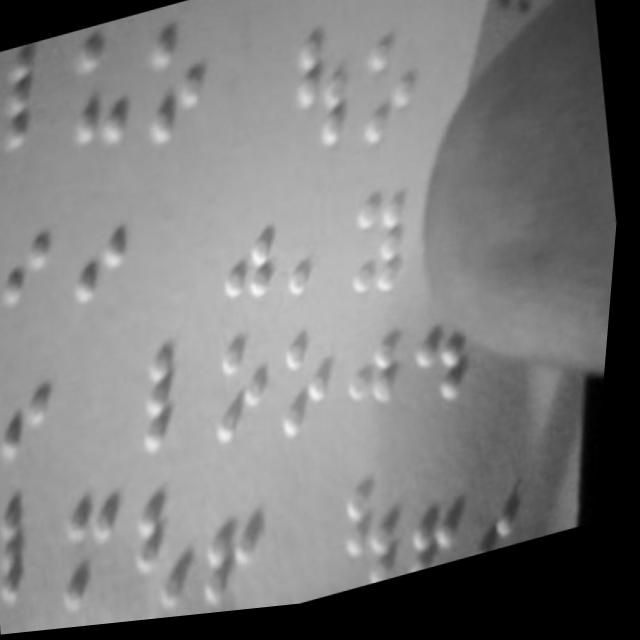braiile: (132, 15, 233, 157), (57, 16, 154, 163), (192, 476, 288, 621), (202, 182, 299, 321), (279, 22, 368, 171), (343, 30, 438, 168), (338, 185, 433, 323), (128, 485, 218, 625), (57, 179, 150, 314), (53, 483, 144, 620), (130, 325, 223, 457), (268, 320, 357, 451), (207, 321, 294, 452), (0, 320, 79, 462), (0, 482, 80, 619), (332, 477, 415, 602), (273, 186, 354, 311), (399, 466, 481, 585), (0, 33, 78, 156), (0, 181, 75, 307), (0, 176, 17, 299), (0, 322, 15, 453), (0, 51, 12, 163)
